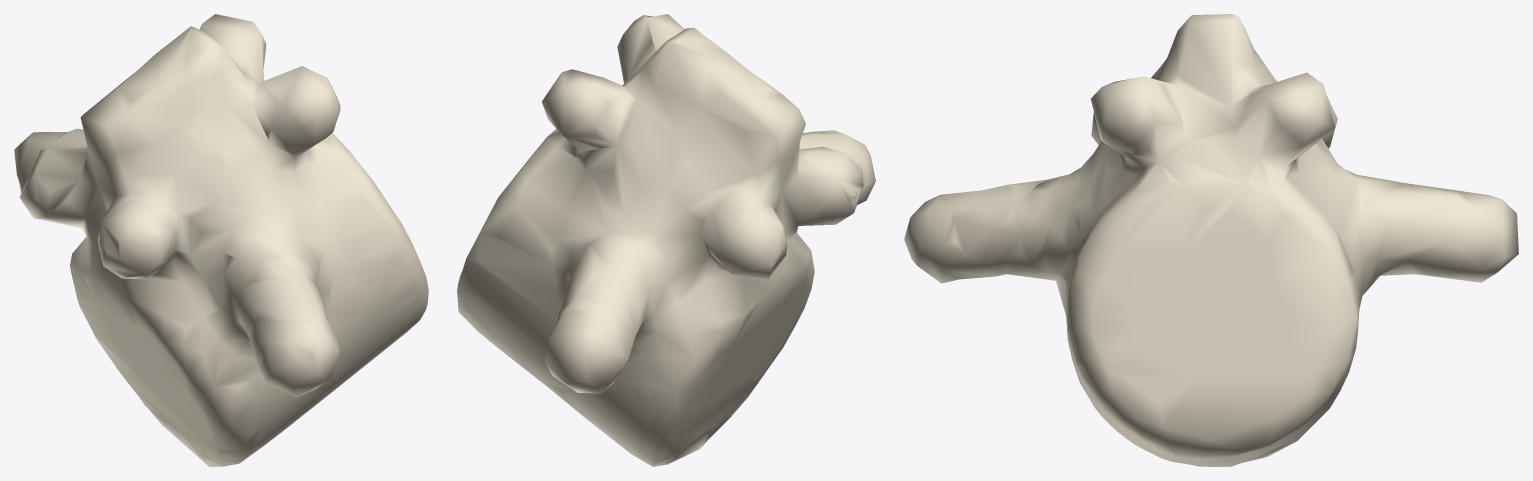
Rendered from cervical_5.glb.
3 renders of one model, left to right at view 1: azimuth 30°, elevation 25°; view 2: azimuth 150°, elevation 25°; view 3: azimuth 270°, elevation 25°, orthographic. The views are drawn at different scales.
Visible parts, largest first — view 1: geometry_0; view 2: geometry_0; view 3: geometry_0.
Boxes of the visible parts, left/top/right/bottom form: geometry_0: left=14, top=14, right=428, bottom=466; geometry_0: left=457, top=14, right=875, bottom=466; geometry_0: left=904, top=14, right=1518, bottom=466.
Bounding box in the file's own units: 0.1406 × 0.1704 × 0.2108.
